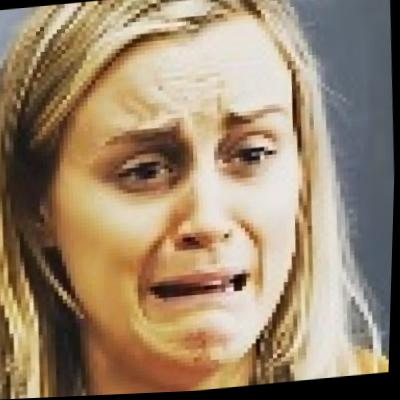sad: (41, 10, 314, 381)
